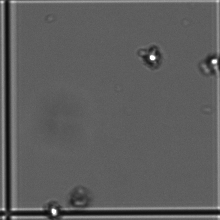Dead Cell: (68, 185, 92, 205)
Living Cell: (142, 44, 166, 70)
